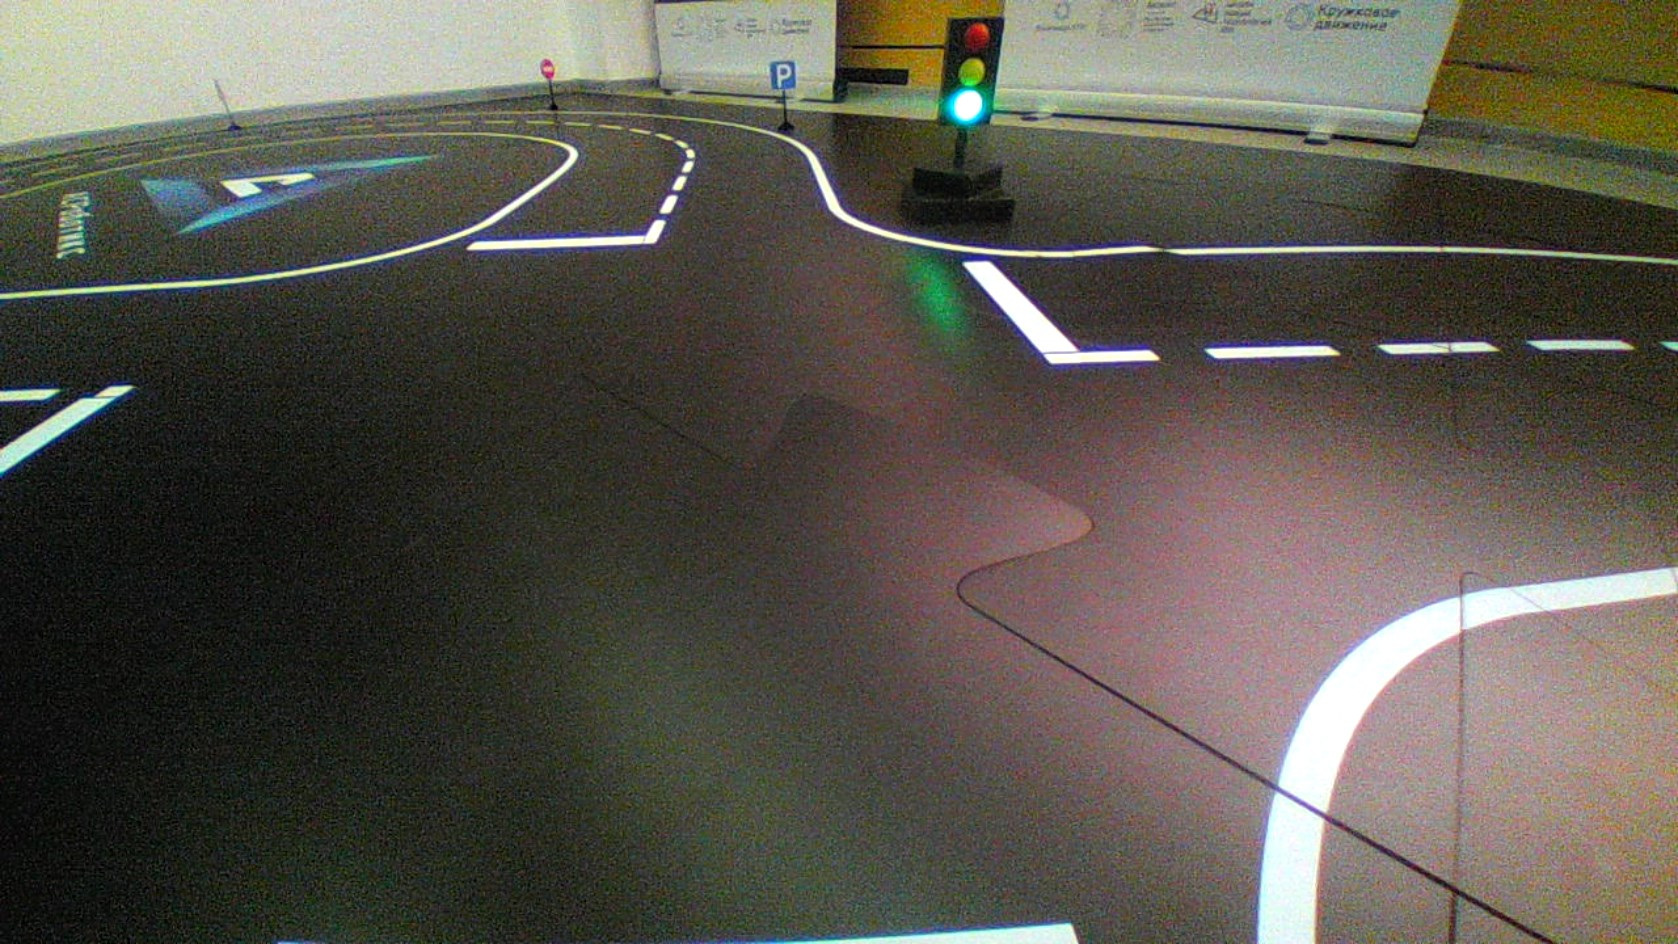trafficlight: (934, 15, 1006, 127)
